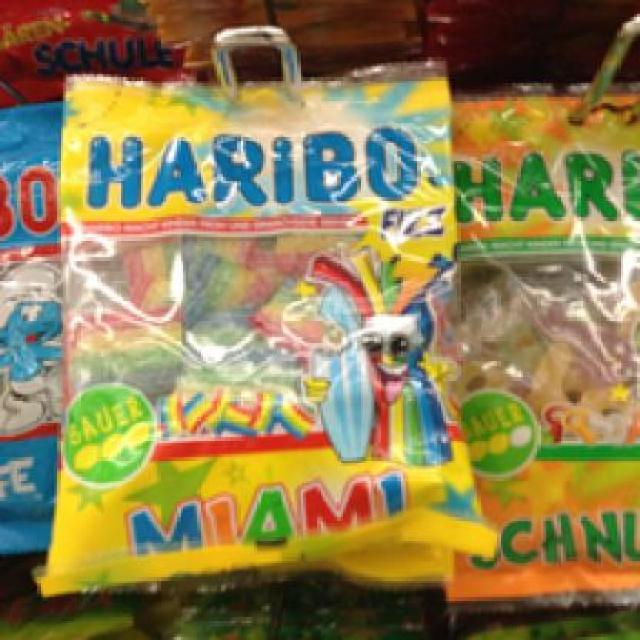Candy: (23, 59, 480, 572), (388, 88, 638, 594)
